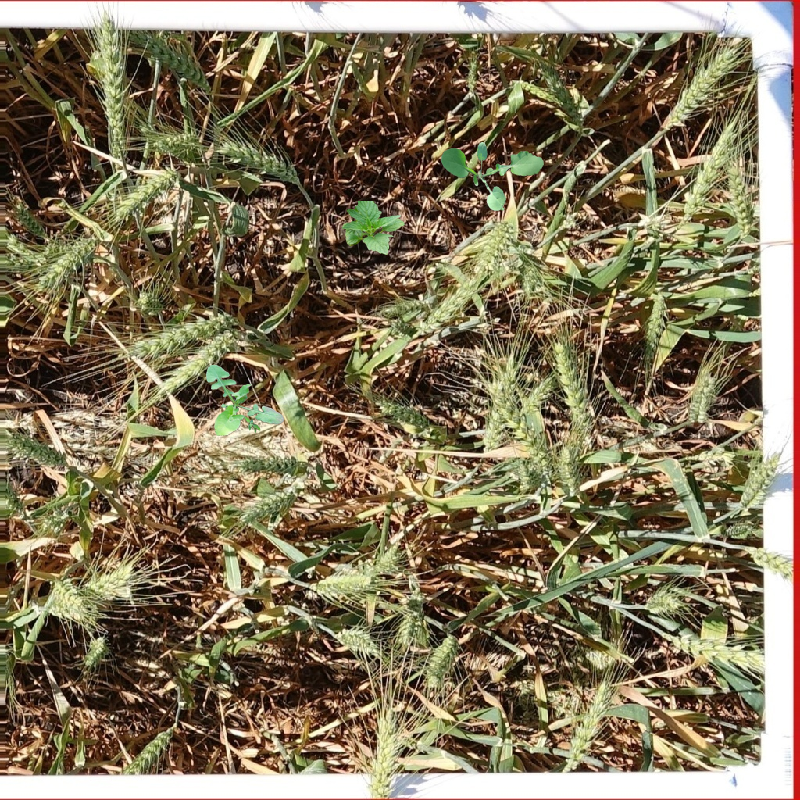spikelet: (140, 327, 242, 409), (658, 38, 744, 132), (85, 20, 132, 165), (677, 114, 741, 220), (124, 306, 239, 361), (135, 26, 215, 94), (211, 130, 304, 187), (559, 677, 616, 770), (668, 626, 767, 675), (550, 336, 596, 441), (30, 229, 99, 295), (106, 164, 178, 224), (233, 474, 308, 527), (361, 703, 404, 794), (531, 61, 592, 123), (464, 215, 518, 282), (112, 721, 177, 776), (222, 431, 302, 474), (734, 445, 786, 510), (77, 556, 142, 607), (372, 392, 441, 440), (307, 560, 380, 600), (723, 154, 757, 238), (40, 573, 94, 625), (479, 374, 515, 452), (419, 630, 461, 691), (638, 285, 671, 362), (140, 122, 206, 159), (2, 429, 65, 467), (368, 290, 440, 323), (393, 586, 431, 648), (683, 367, 721, 424), (31, 495, 82, 537), (742, 541, 796, 579), (332, 620, 382, 659), (641, 582, 689, 616), (554, 439, 582, 495), (14, 201, 50, 242), (518, 260, 553, 302), (129, 282, 169, 318), (691, 443, 737, 470), (579, 642, 620, 671), (79, 633, 110, 670), (636, 208, 672, 239), (1, 474, 25, 517), (722, 515, 760, 540)
weed: (441, 142, 544, 211), (206, 365, 284, 436), (342, 201, 405, 255)
